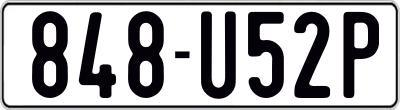2: (294, 11, 334, 100)
4: (79, 11, 117, 101)
5: (245, 11, 285, 98)
8: (32, 9, 71, 101), (128, 10, 165, 98)
P: (341, 10, 378, 100)
U: (199, 10, 236, 102)
